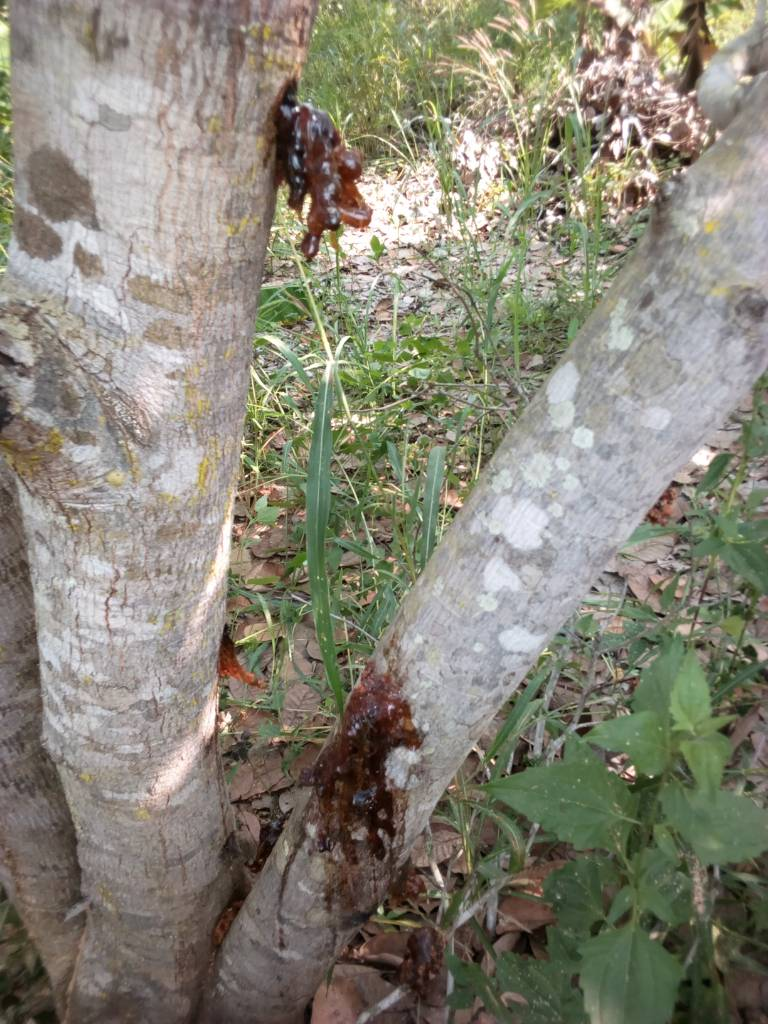Mecocorynus longiceps: (284, 660, 451, 858), (259, 88, 403, 250)
